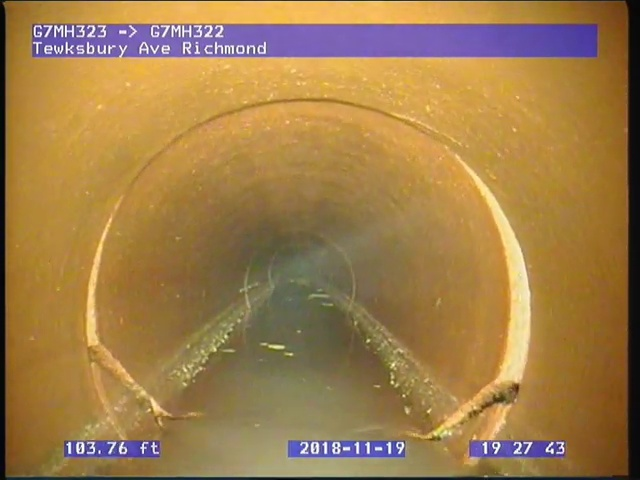crack: (406, 377, 521, 443), (146, 395, 206, 433)
